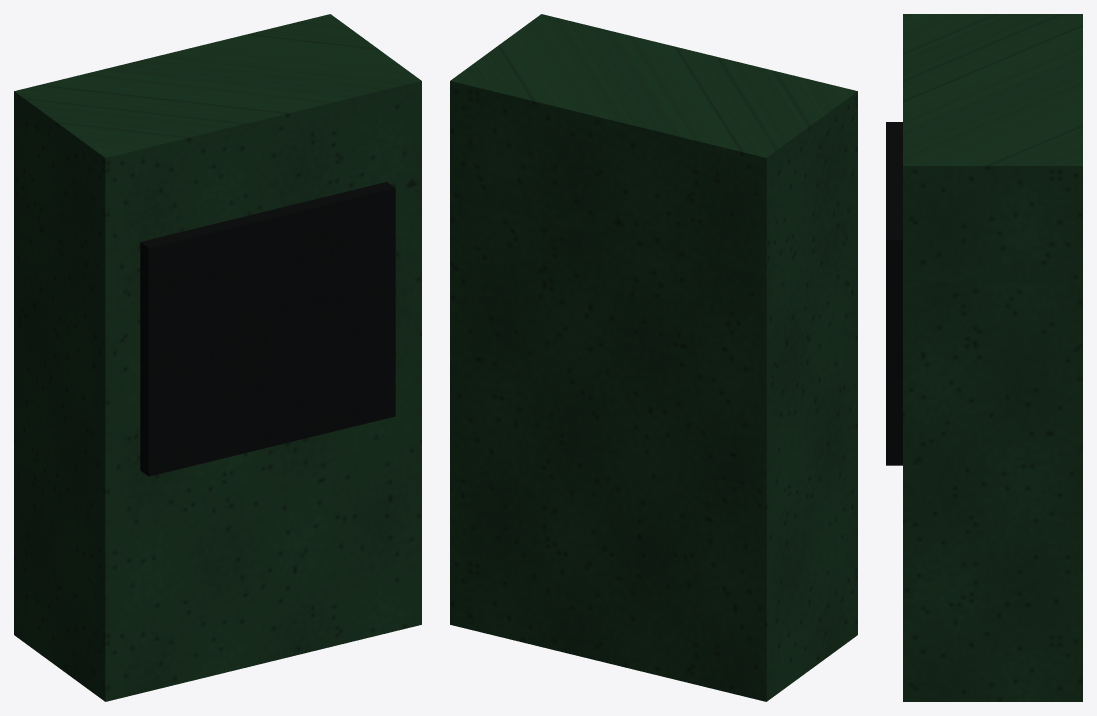
The model's file is PROP-1286FE789E92_lod2.glb.
3 views of the same model, side by side, from view 1: azimuth 30°, elevation 25°; view 2: azimuth 150°, elevation 25°; view 3: azimuth 270°, elevation 25° (orthographic).
Visible parts, largest first — view 1: cabinet.008, recessed_front.008; view 2: cabinet.008; view 3: cabinet.008, recessed_front.008.
Boxes of the visible parts, left/top/right/bottom form: cabinet.008: left=14, top=14, right=421, bottom=701; recessed_front.008: left=140, top=182, right=395, bottom=476; cabinet.008: left=450, top=14, right=857, bottom=701; cabinet.008: left=903, top=14, right=1082, bottom=701; recessed_front.008: left=886, top=122, right=902, bottom=465.
Size of the model in its own units: 0.7 by 1.15 by 0.3825.
Materials: 2 (2 with a texture image).
